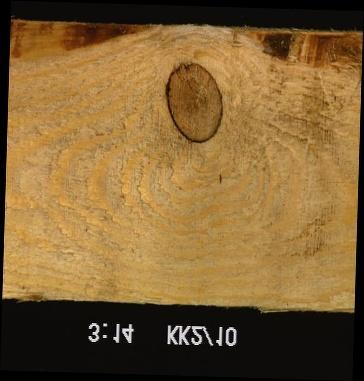dry_knot: (161, 60, 224, 144)
wave: (9, 19, 156, 62), (244, 27, 360, 73)
